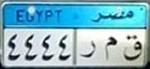4: (6, 32, 22, 61), (56, 33, 71, 63), (41, 31, 54, 63), (24, 32, 38, 61)
meem: (101, 33, 118, 60)
qaaf: (120, 32, 144, 61)
raa: (79, 36, 97, 62)
